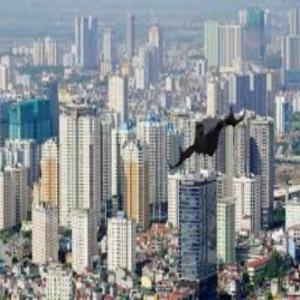drone: (162, 95, 255, 188)
